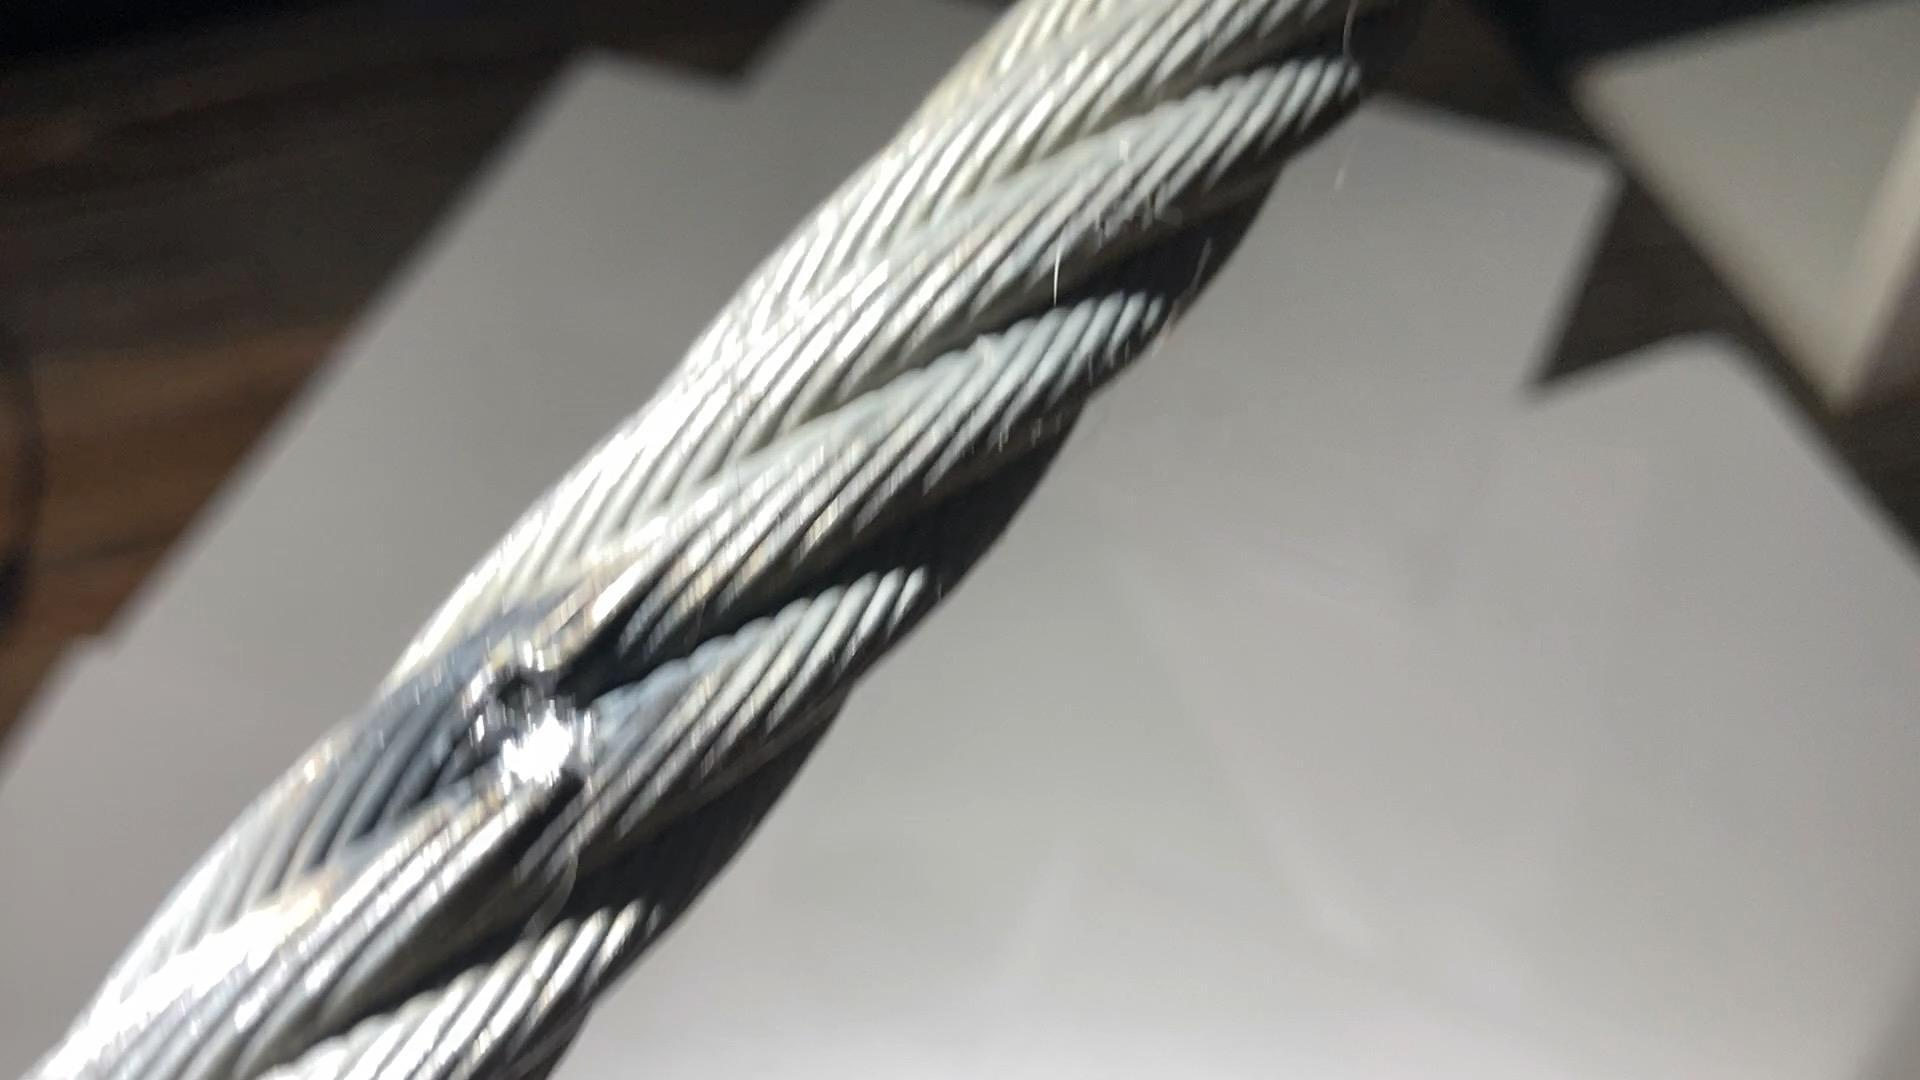thunderbolt: (451, 626, 628, 814)
